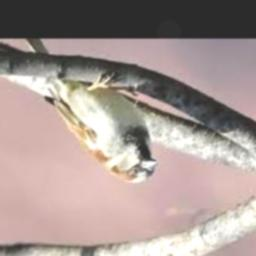Sparrow: (24, 38, 157, 183)
